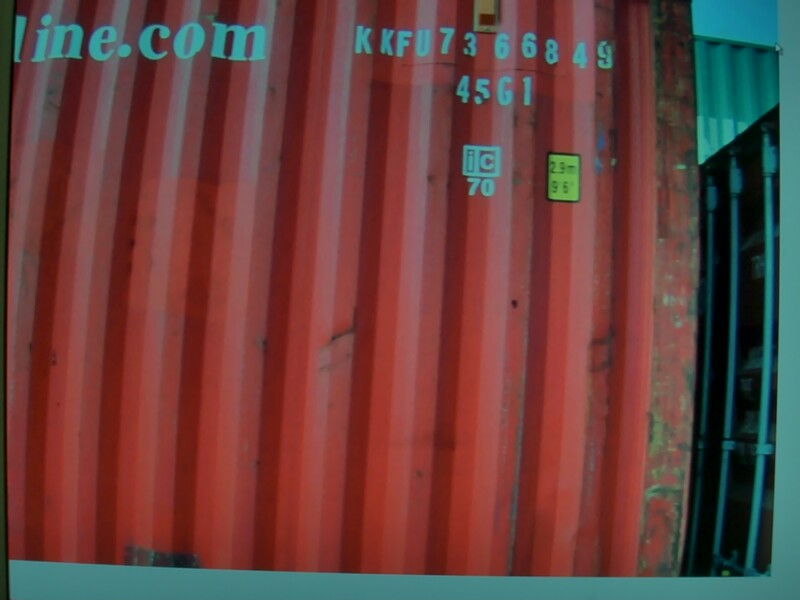container_no_door: (26, 41, 581, 480)
